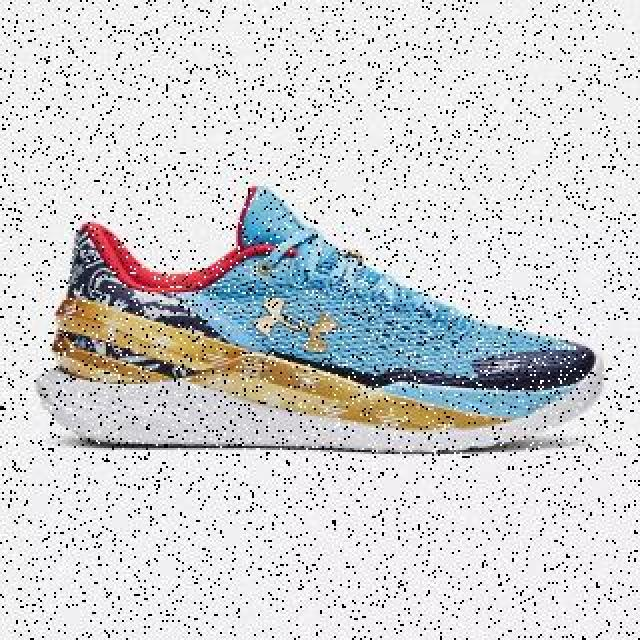shoes: (31, 182, 607, 452)
